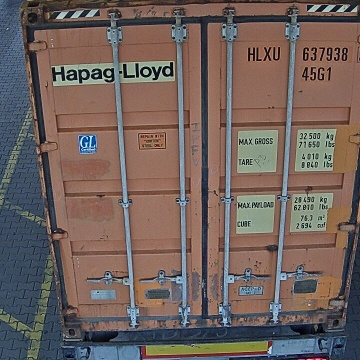serial_id: (248, 46, 360, 60)
